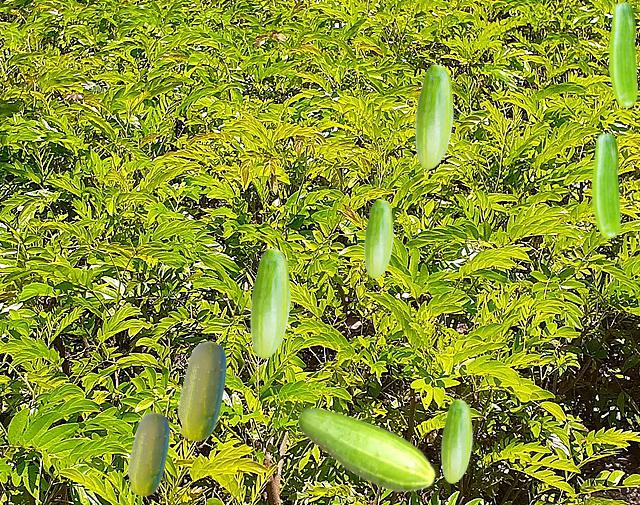cucumber: (297, 407, 435, 492), (177, 341, 225, 440), (250, 248, 289, 357), (415, 64, 452, 168), (127, 412, 168, 495), (609, 2, 636, 106), (592, 133, 619, 237), (441, 399, 471, 482), (364, 199, 392, 277)
